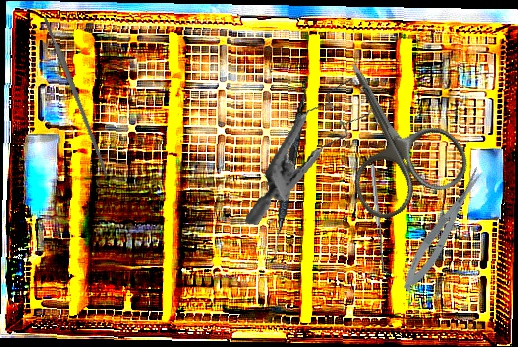Iris Scissors: (303, 37, 476, 227)
Micro Scissor: (395, 164, 492, 296)
Scalpel Handle: (42, 15, 111, 178)
Spatula Surgical: (269, 76, 311, 265), (370, 163, 390, 276)
Speculum: (244, 65, 386, 243)
